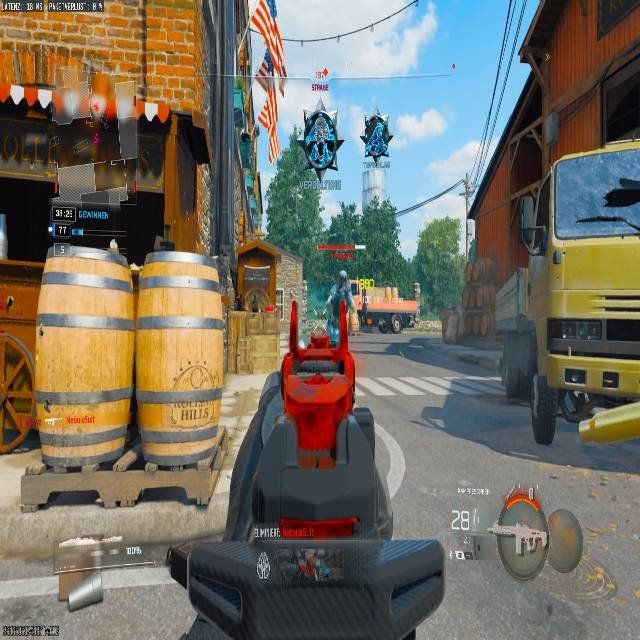head: (338, 270, 347, 282)
player: (302, 107, 342, 183), (325, 269, 356, 340), (361, 111, 390, 167), (377, 318, 388, 333)
